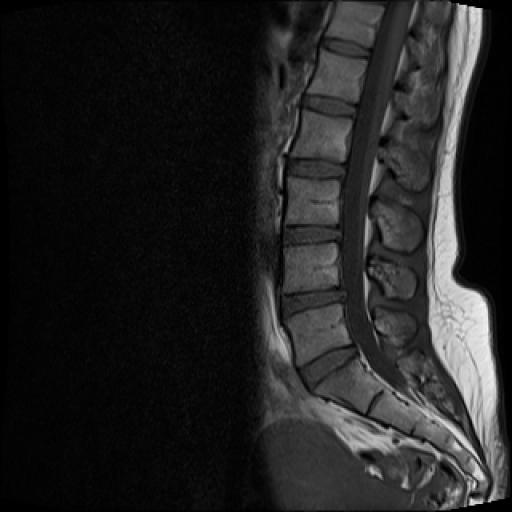L1: (308, 49, 367, 102)
L2: (291, 110, 352, 162)
L3: (286, 178, 338, 226)
L4: (283, 243, 339, 294)
L5: (285, 304, 352, 366)
S1: (314, 357, 383, 414)
